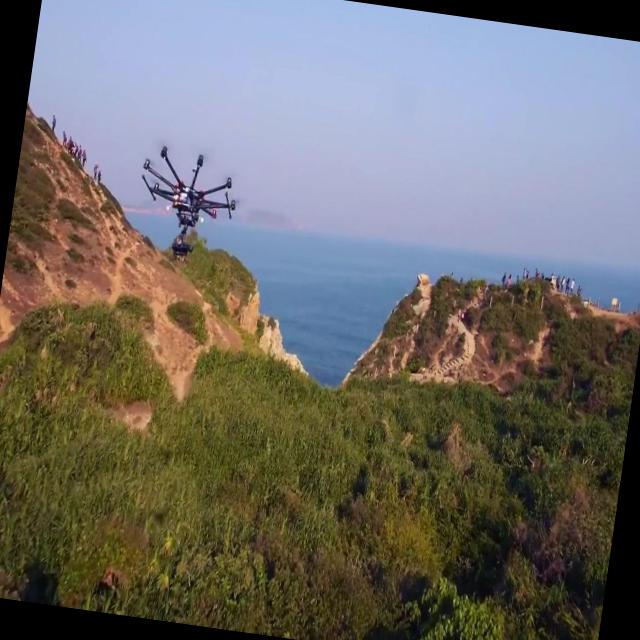drone: (125, 140, 248, 271)
